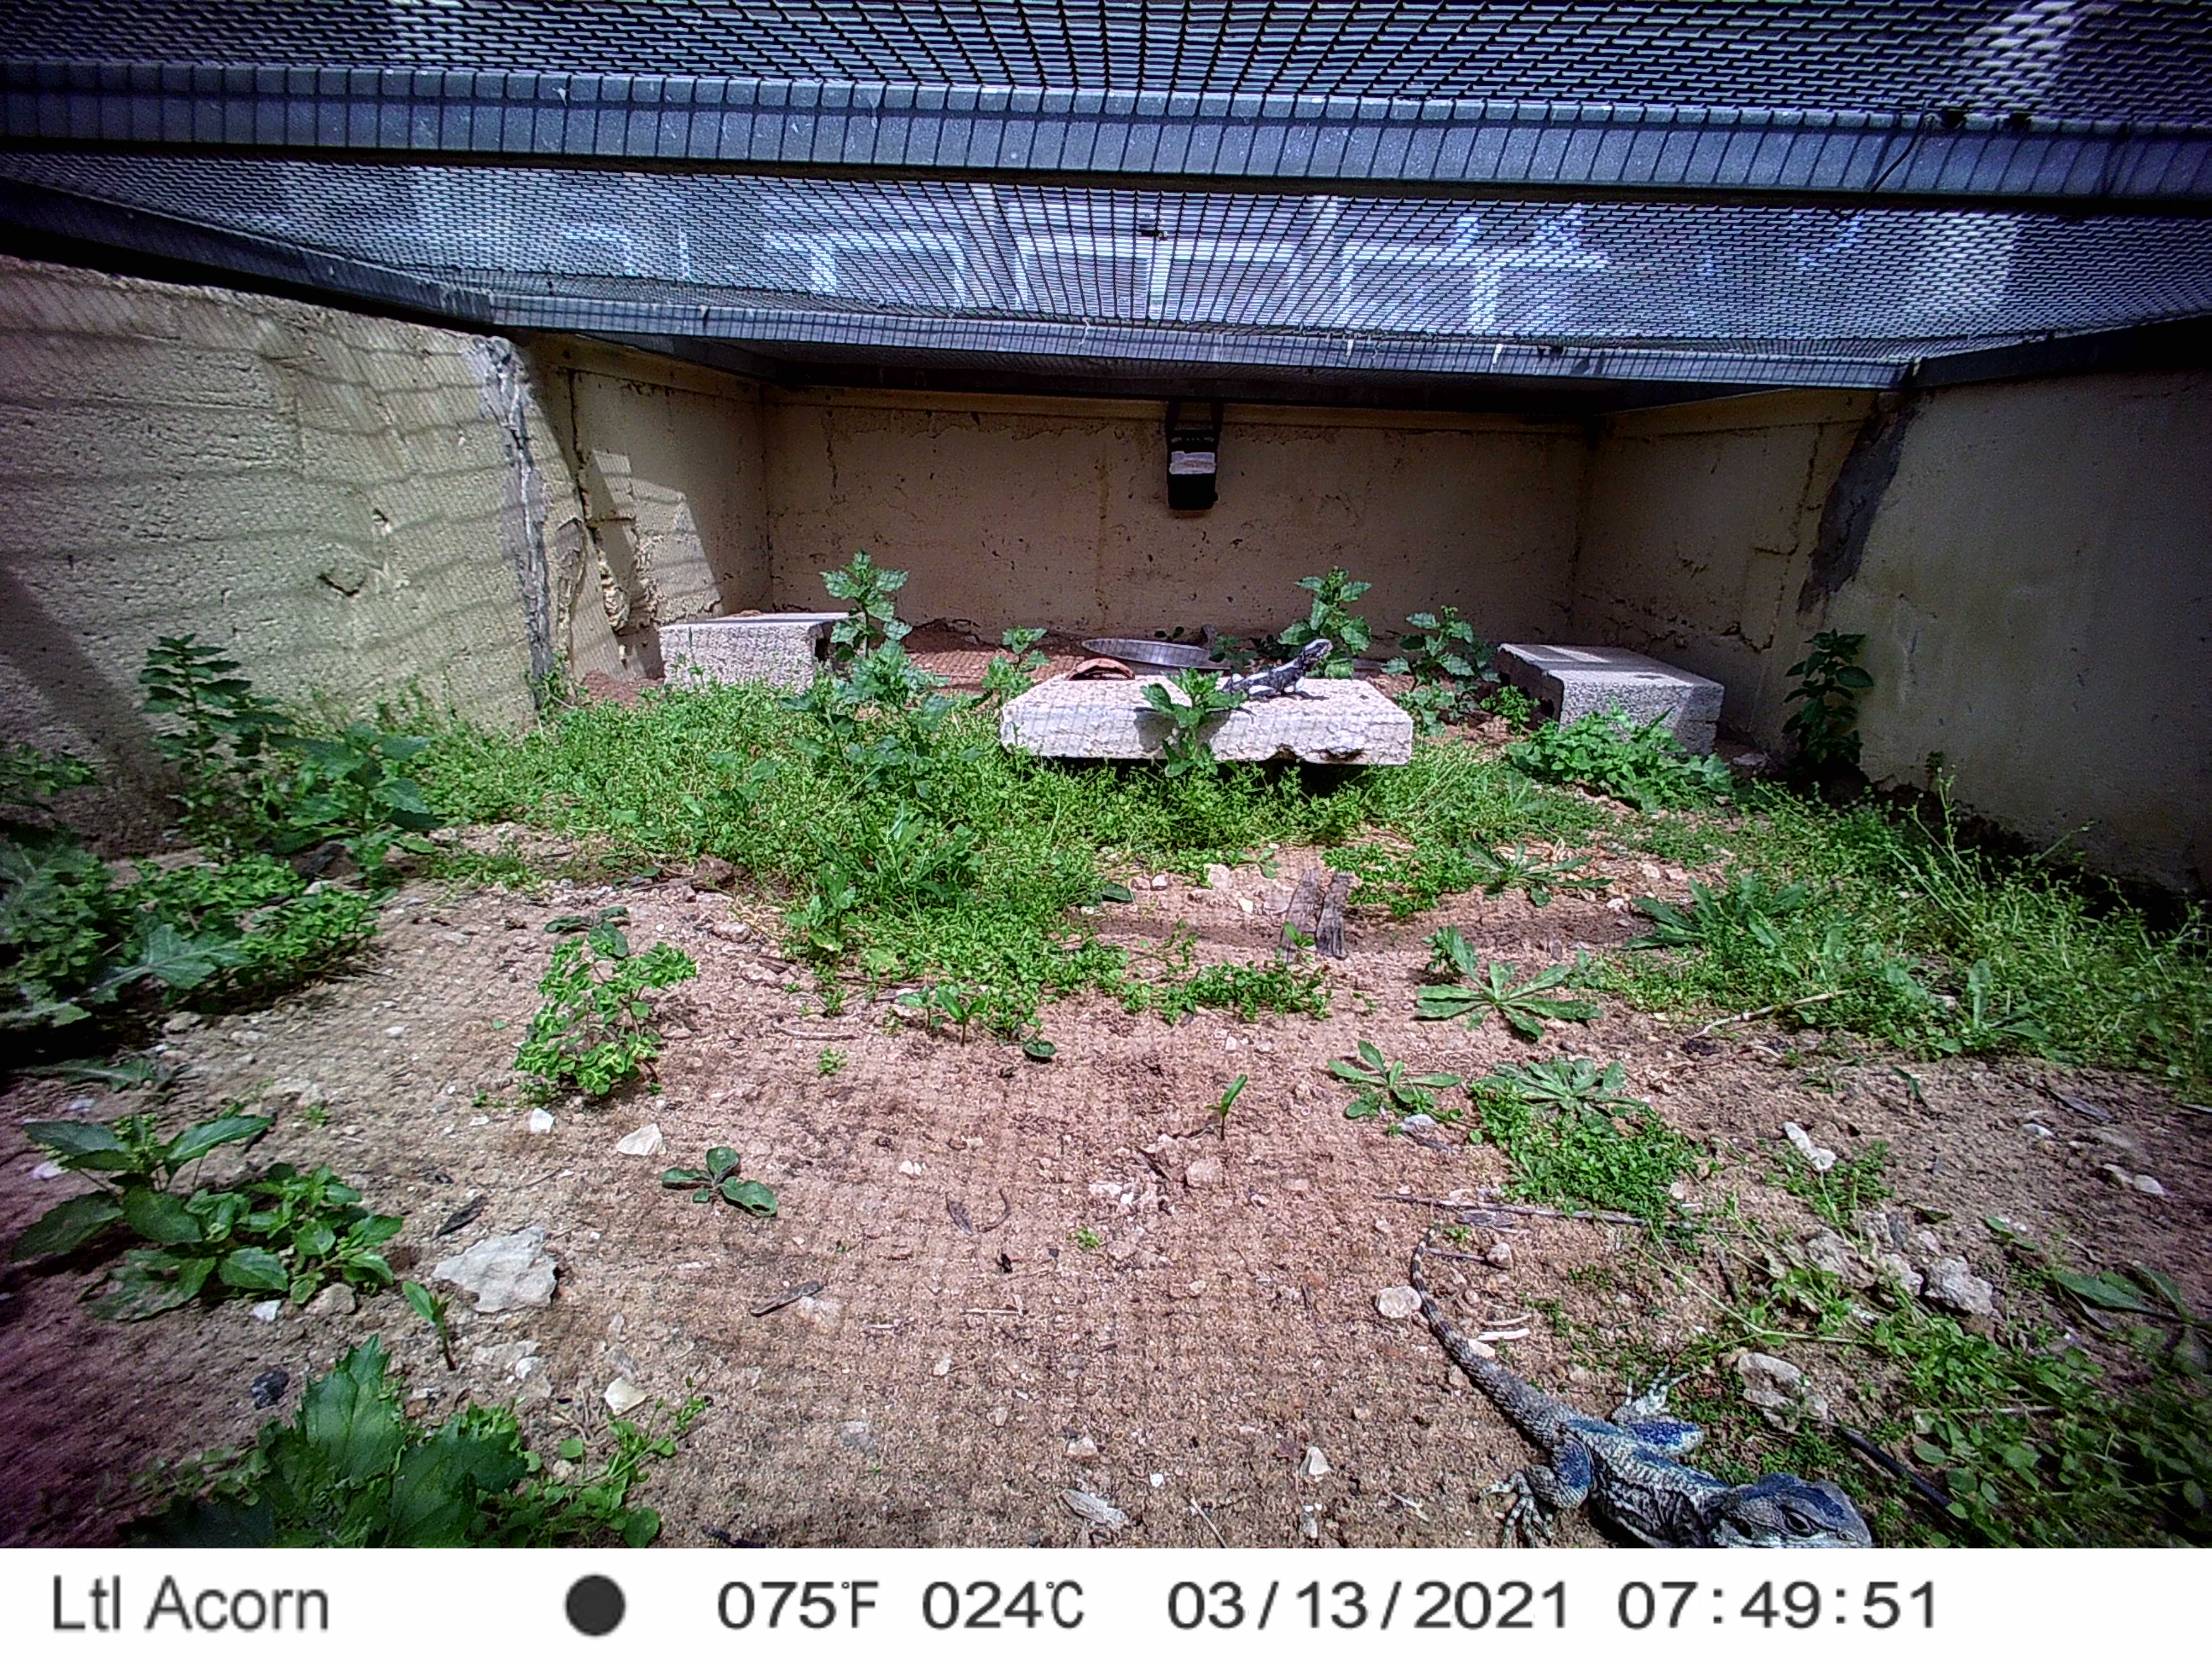lizard: (1409, 1216, 1885, 1542), (1169, 636, 1338, 702)
